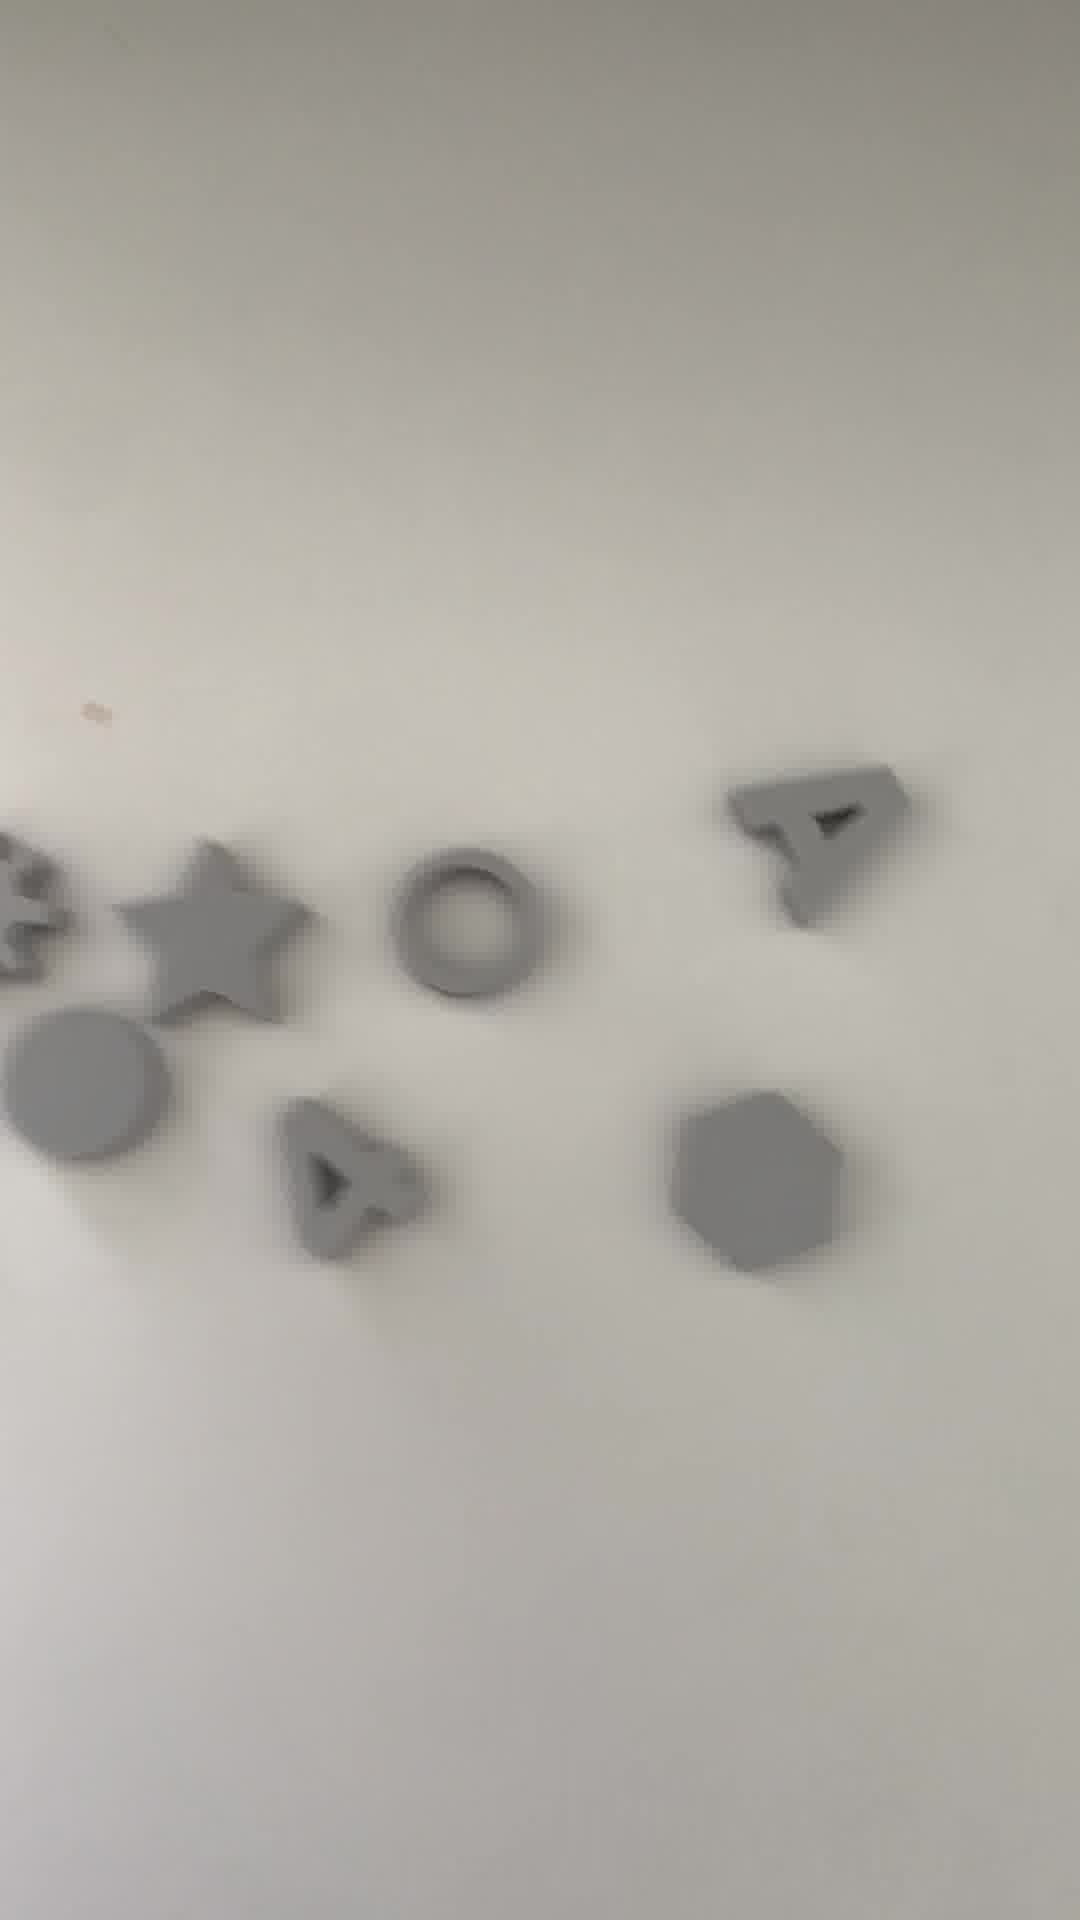Gray A-letter: (711, 742, 923, 942)
Gray circle: (1, 1007, 156, 1174)
Gray four: (291, 1098, 443, 1280)
Gray gear: (1, 836, 80, 997)
Gray hexagon: (661, 1084, 844, 1282)
Gray ring: (375, 852, 556, 1025)
Gray star: (121, 841, 305, 1034)
